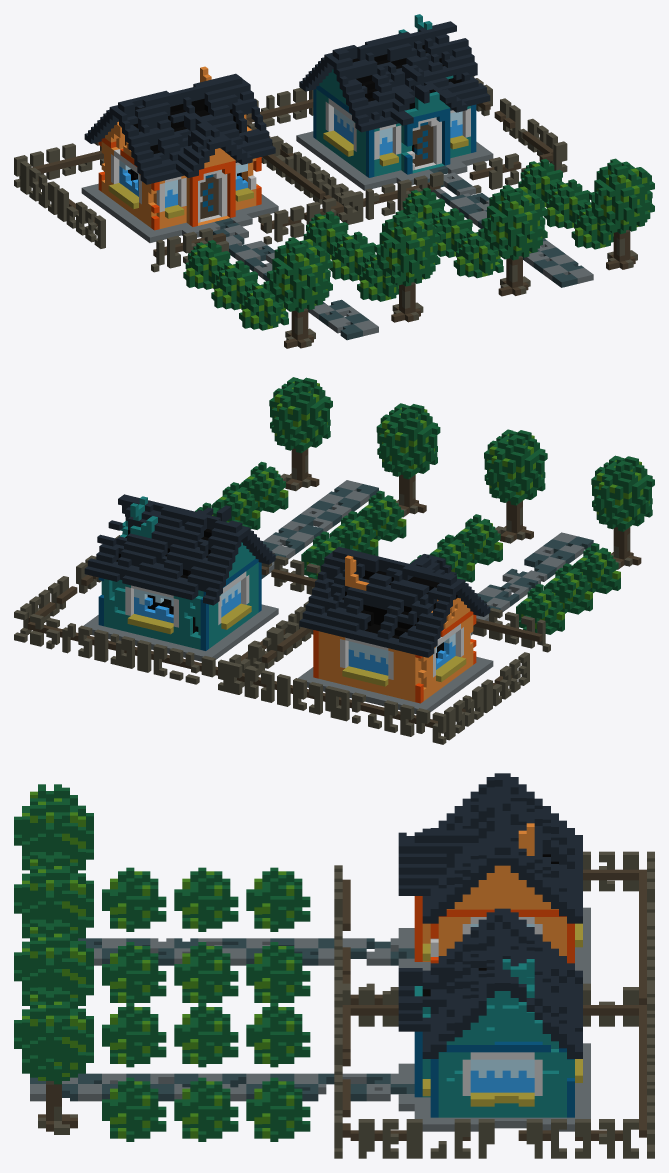
File: building_small_1_damaged.obj
3 views of the same model, one above another, from view 1: azimuth 30°, elevation 25°; view 2: azimuth 150°, elevation 25°; view 3: azimuth 270°, elevation 25° (orthographic). The views are drawn at different scales.
Bounding box in the file's own units: 8 × 2.1 × 8.
Materials: 1 (1 with a texture image).
